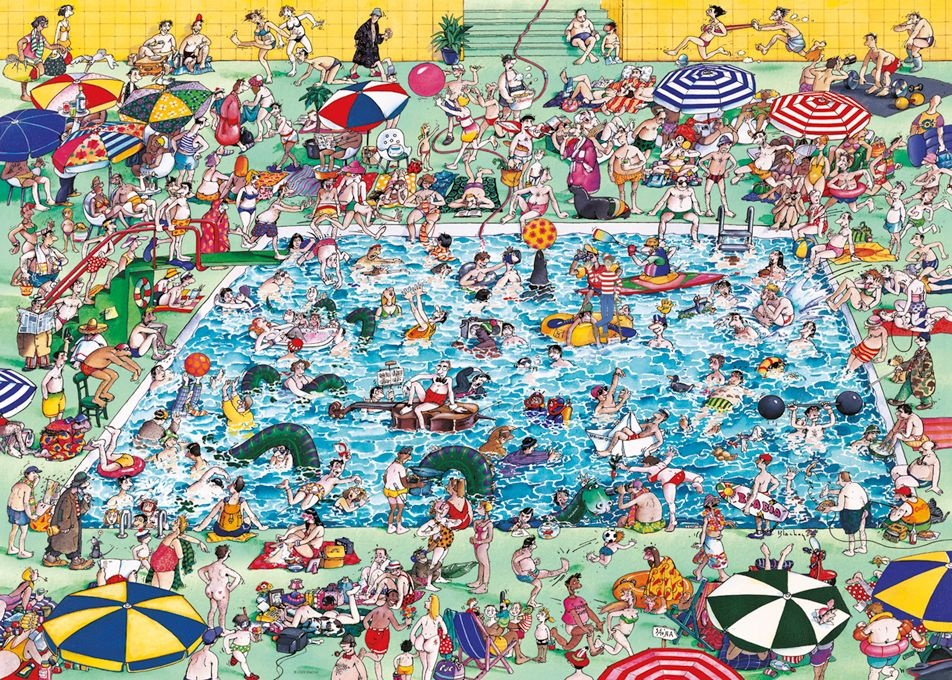waldo: (583, 252, 623, 338)
